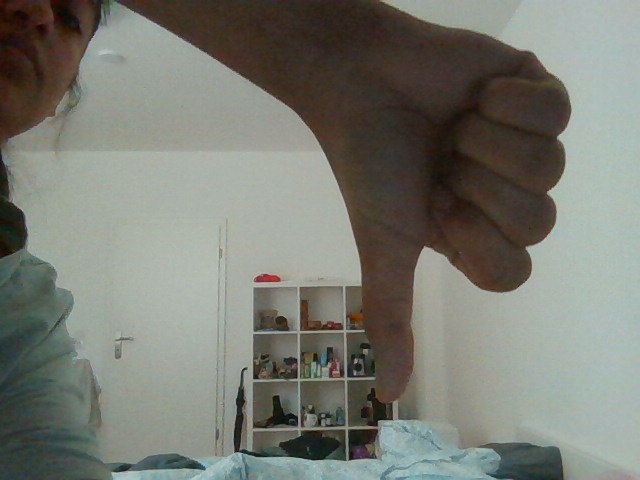thumbs_down: (336, 3, 576, 406)
